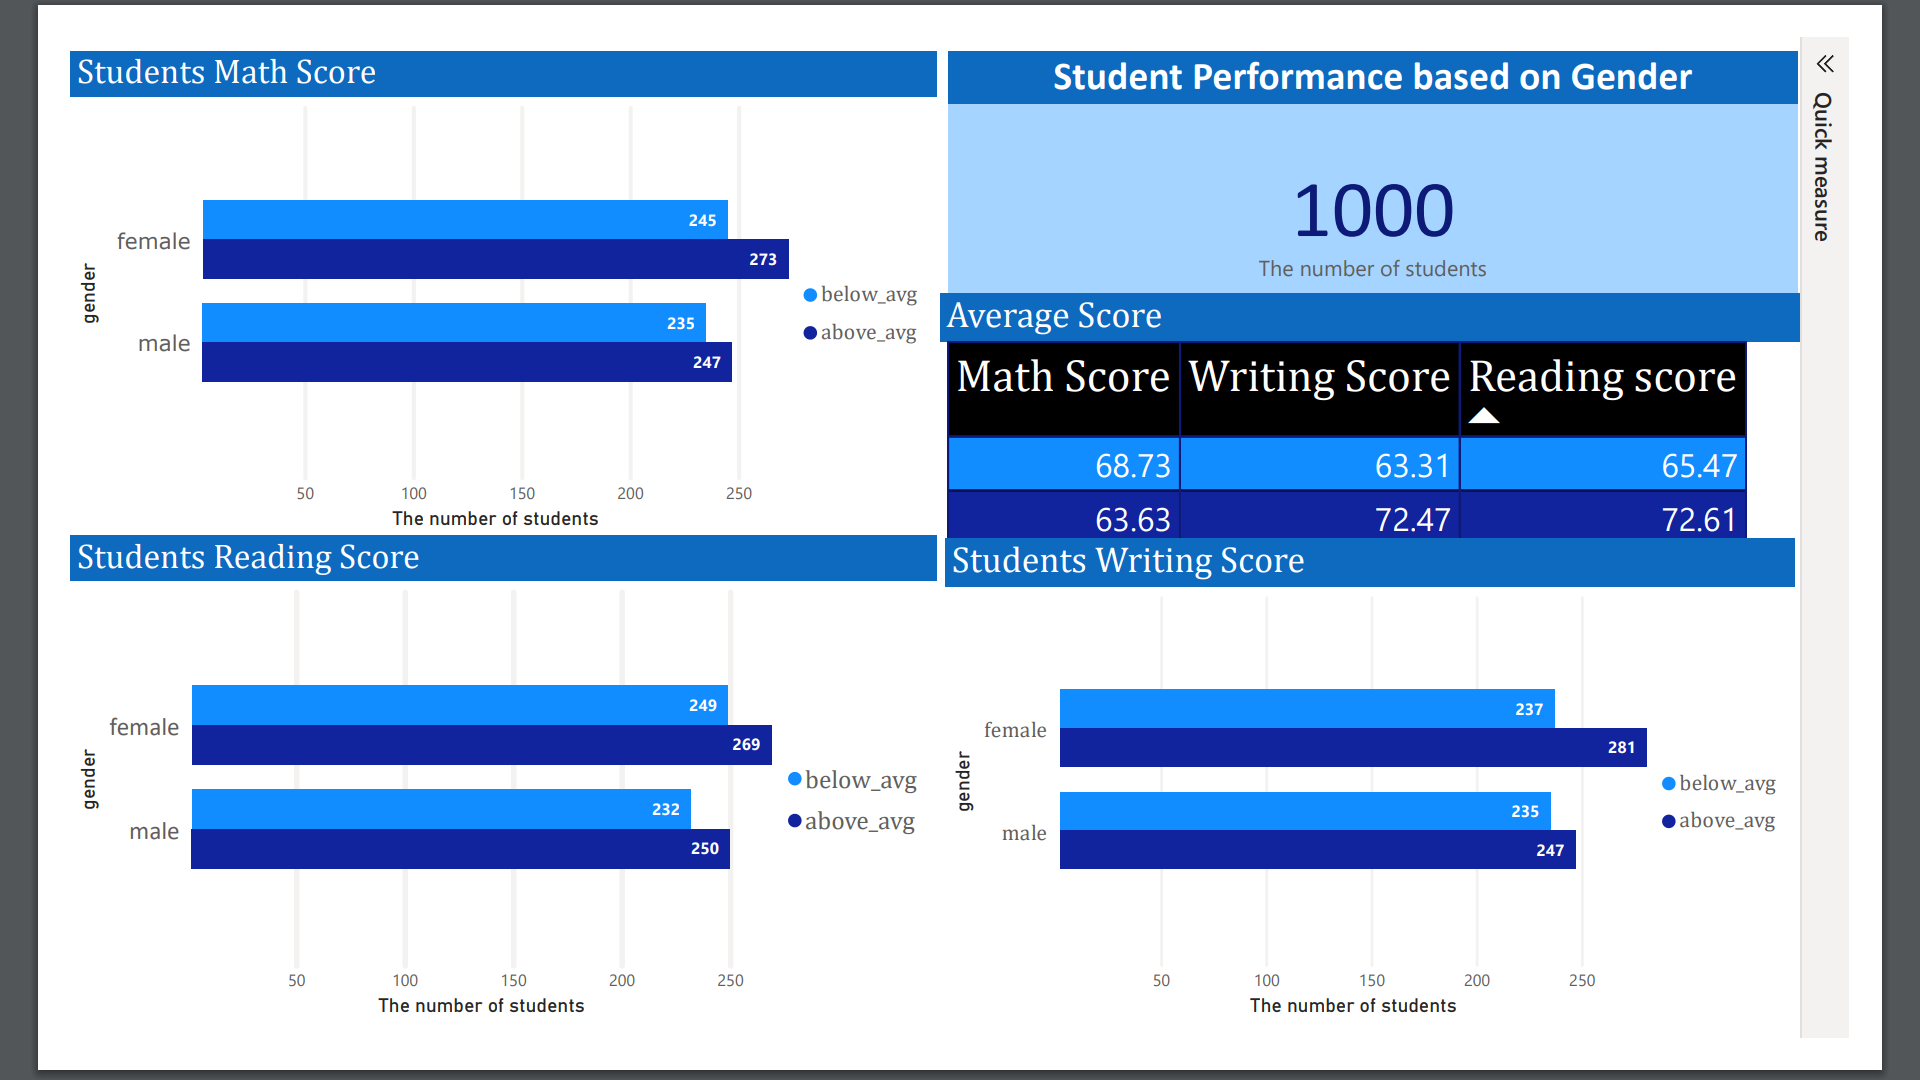

Layout of this report page (visuals, bound fields, positions):
{"tool":"powerbi","page":{"name":"Page 1","canvas":[1280,720],"ordinal":0},"visuals":[{"type":"card","title":"Student Performance based on Gender","fields":{"Values":["CountNonNull(StudentsPerformance.gender)"]},"box":[649.3,0,629.4,209.1],"z":0},{"type":"tableEx","title":"Average Score","fields":{"Values":["student_over_below_math.round","studentq3.round","studentq2.round"]},"box":[643.3,179.3,637.4,201.2],"z":1000},{"type":"clusteredBarChart","title":"Students Math Score","fields":{"Category":["student_over_below_math.gender"],"Y":["Sum(student_over_below_math.below_avg)","Sum(student_over_below_math.above_avg)"]},"box":[0,0,641.3,358.5],"z":2000},{"type":"clusteredBarChart","title":"Students Reading Score","fields":{"Category":["studentq2.gender"],"Y":["Sum(studentq2.below_avg)","Sum(studentq2.above_avg)"]},"box":[0,359.1,640.6,360.9],"z":3000},{"type":"clusteredBarChart","title":"Students Writing Score","fields":{"Category":["studentq3.gender"],"Y":["Sum(studentq3.below_avg)","Sum(studentq3.above_avg)"]},"box":[647.3,360.5,629.4,358.5],"z":4000}]}

Visuals, with their boxes in screenshot pixels (x1, y1, x2, y2):
"Student Performance based on Gender" card: {"left": 945, "top": 0, "right": 1877, "bottom": 309}
"Average Score" tableEx: {"left": 937, "top": 265, "right": 1879, "bottom": 563}
"Students Math Score" clusteredBarChart: {"left": 0, "top": 0, "right": 934, "bottom": 530}
"Students Reading Score" clusteredBarChart: {"left": 0, "top": 531, "right": 933, "bottom": 1065}
"Students Writing Score" clusteredBarChart: {"left": 943, "top": 533, "right": 1874, "bottom": 1064}
